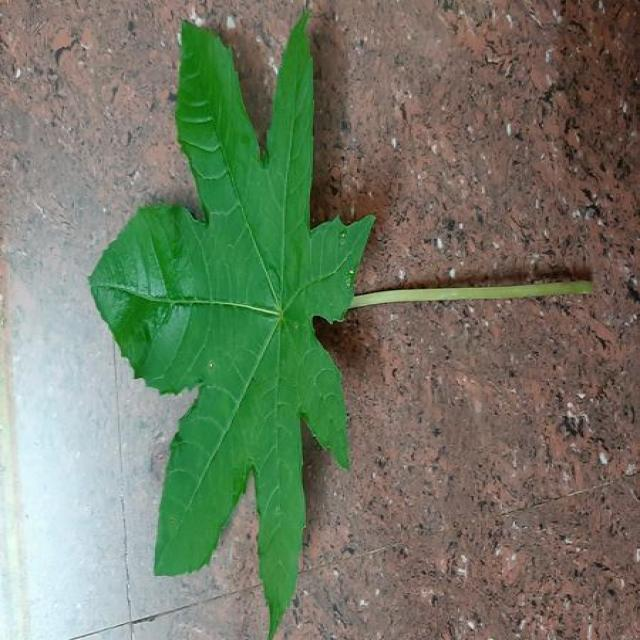castor: (90, 15, 375, 637)
